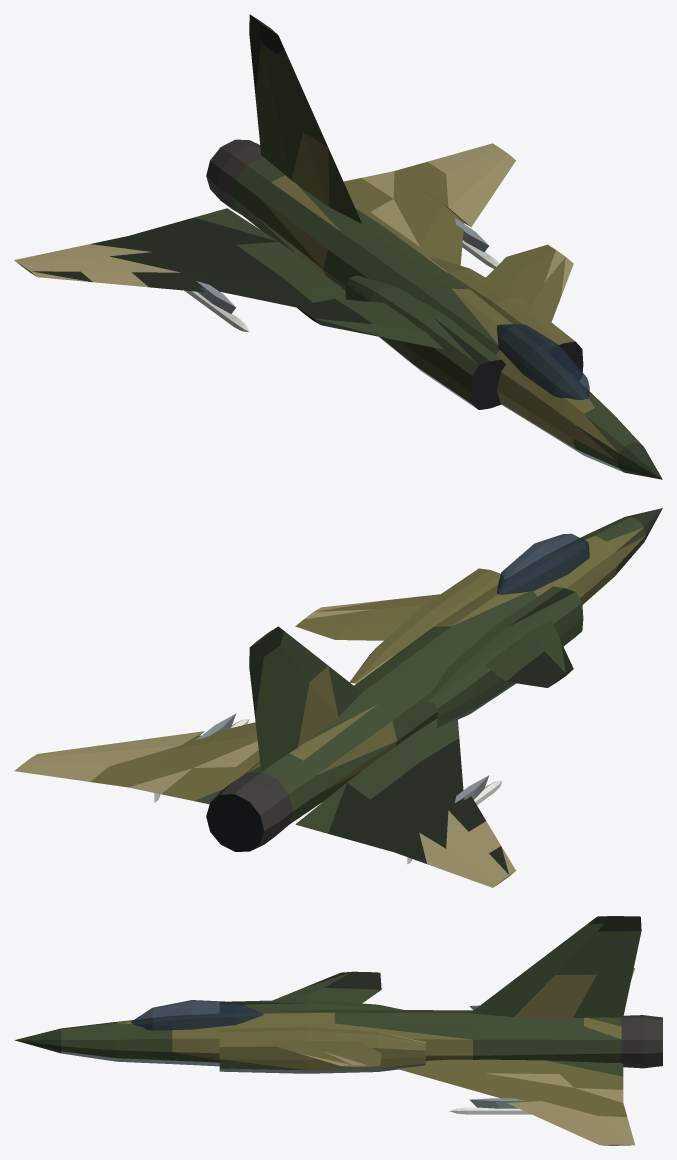
3 renders of one model, top to bottom at view 1: azimuth 30°, elevation 25°; view 2: azimuth 150°, elevation 25°; view 3: azimuth 270°, elevation 25°, orthographic. The views are drawn at different scales.
Visible parts, largest first — view 1: airframe, canopy, stores; view 2: airframe, canopy, stores; view 3: airframe, canopy, stores.
Part boxes in pixels (x1,y1,x2,y2): airframe: (14, 14, 662, 479); canopy: (497, 324, 589, 399); stores: (184, 218, 499, 332); airframe: (14, 508, 662, 887); canopy: (497, 533, 589, 594); stores: (154, 713, 502, 864); airframe: (14, 916, 662, 1145); canopy: (131, 1000, 263, 1030); stores: (449, 1005, 531, 1114).
Bounding box in the file's own units: 10.6 × 4.42 × 16.4.
